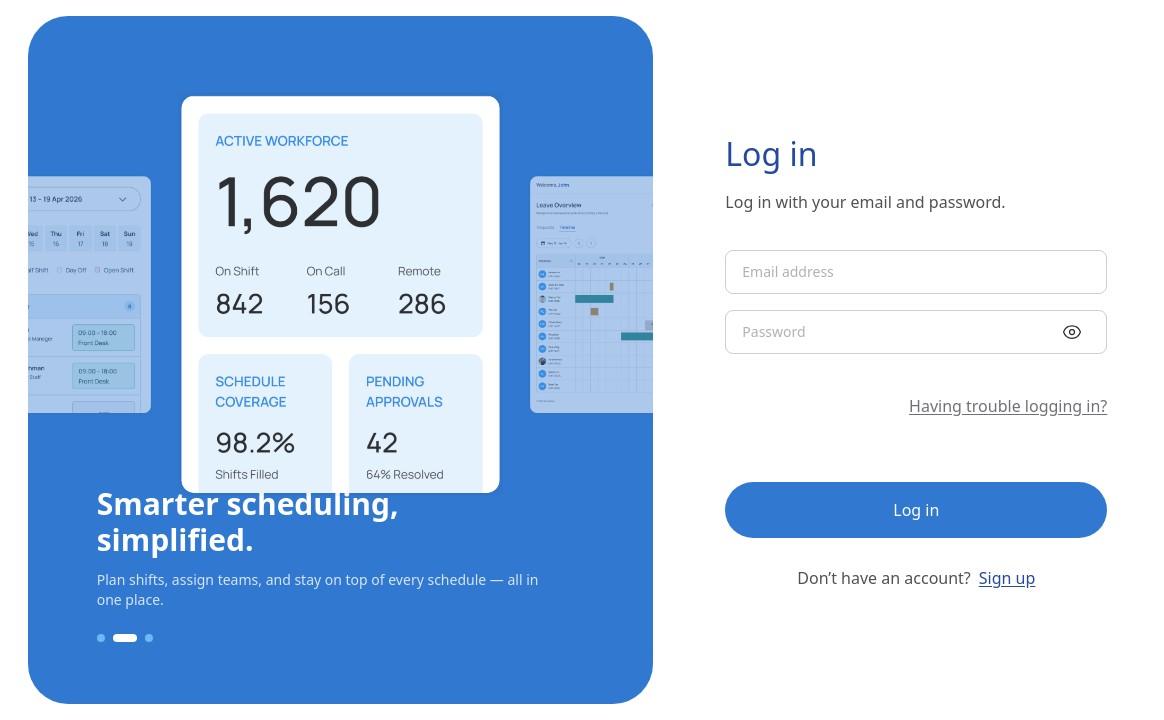
Scenario: carries the email from a 403 EMAIL_NOT_VERIFIED at Log in
Expected: the heading "Log in" is shown, x1=725 y1=132 x2=818 y2=175
In the field labelled "Email": (916, 272) x1=742 y1=262 x2=1090 y2=282, type "owner@acme.test"
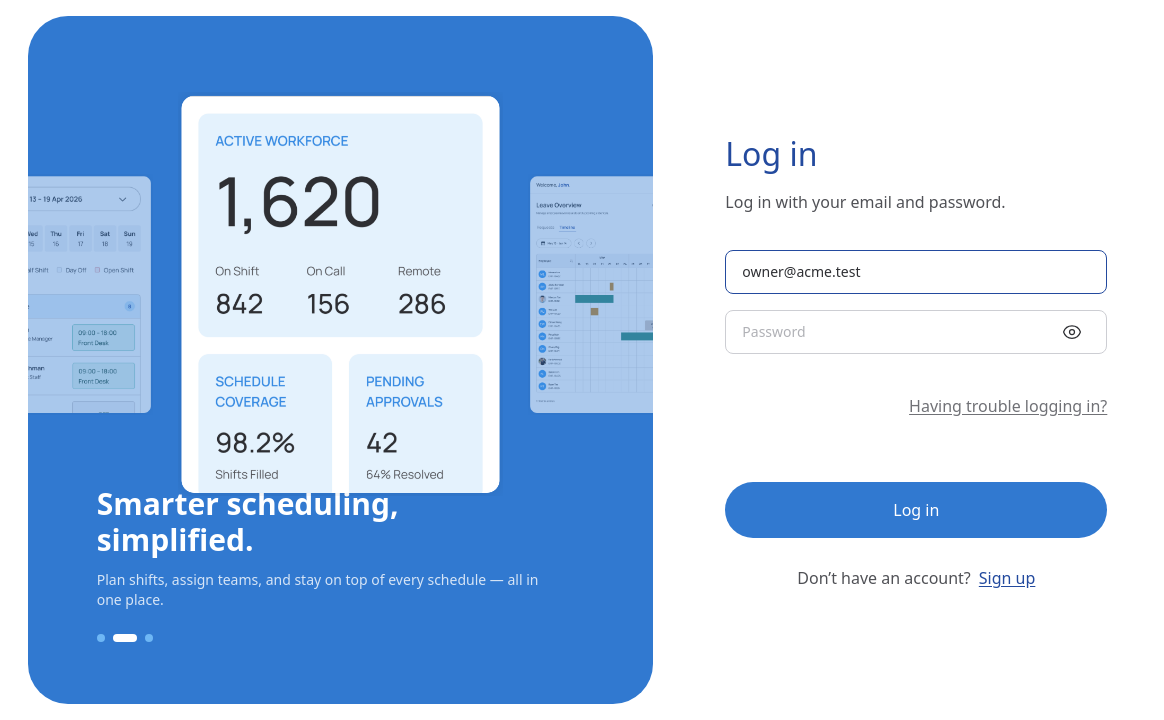
In the password field labelled "Password": (892, 332) x1=742 y1=322 x2=1042 y2=342, type "Example123!"
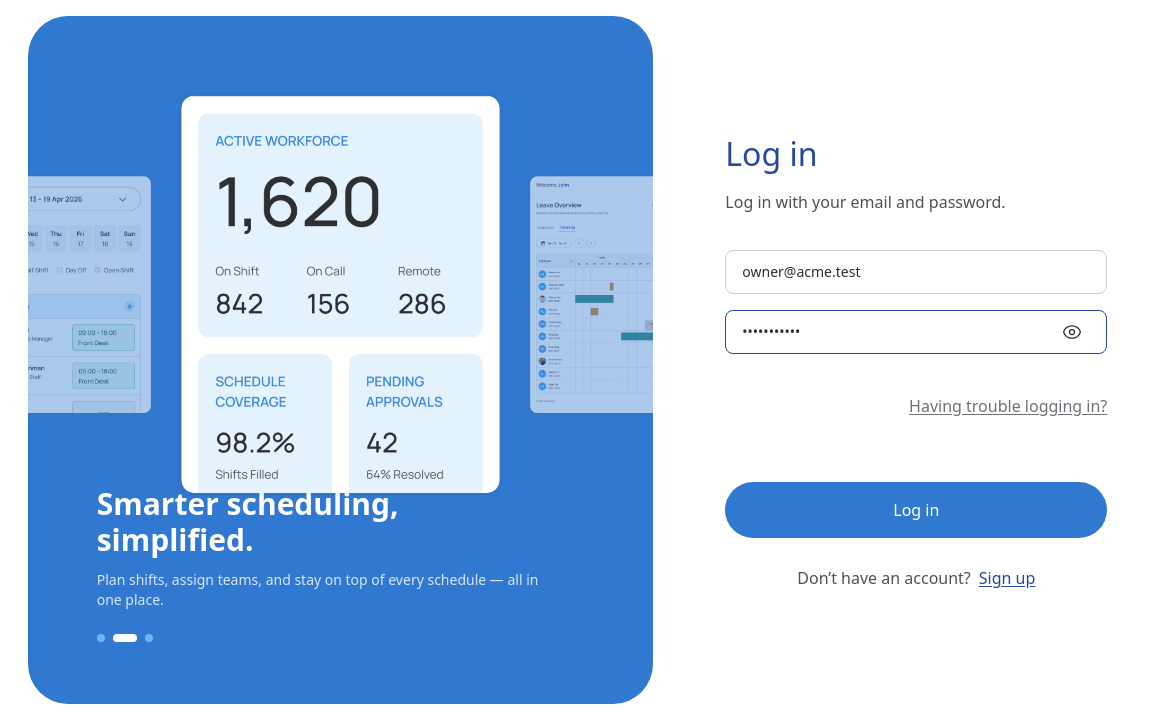
Click the button "Log in": (916, 510) x1=725 y1=482 x2=1107 y2=538
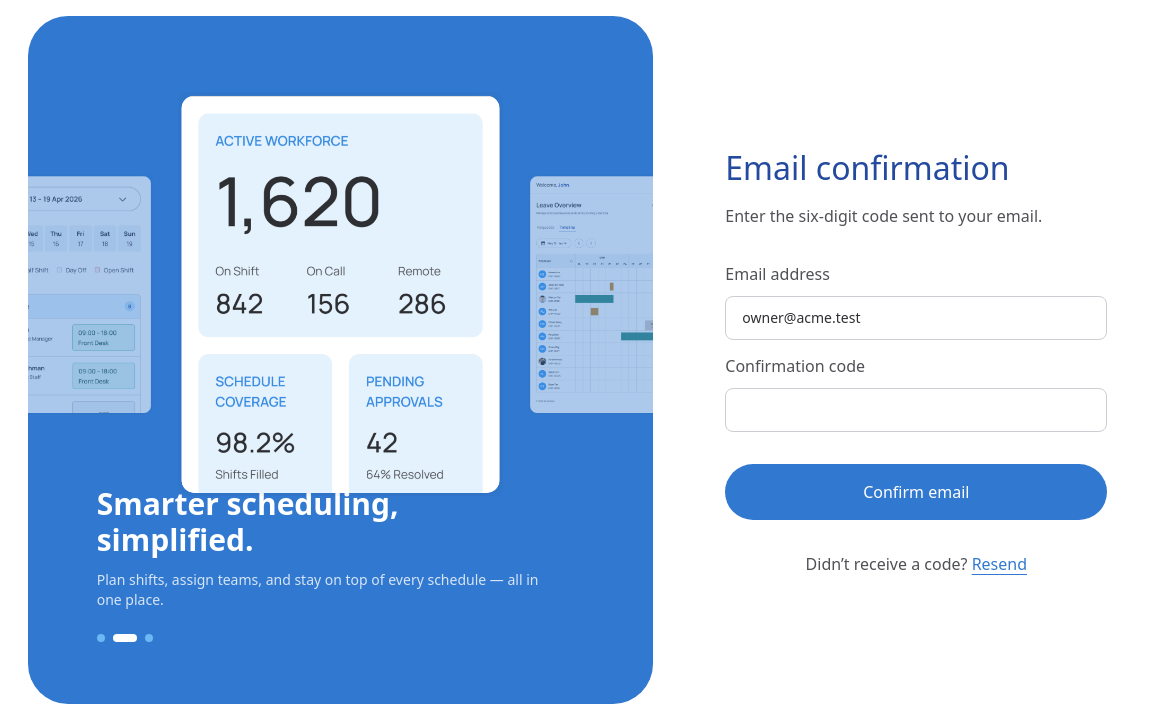
Now the field labelled "Email address" holds "owner@acme.test", box x1=742 y1=308 x2=1090 y2=328
Now the heading "Email confirmation" is shown, box x1=725 y1=146 x2=1010 y2=189
